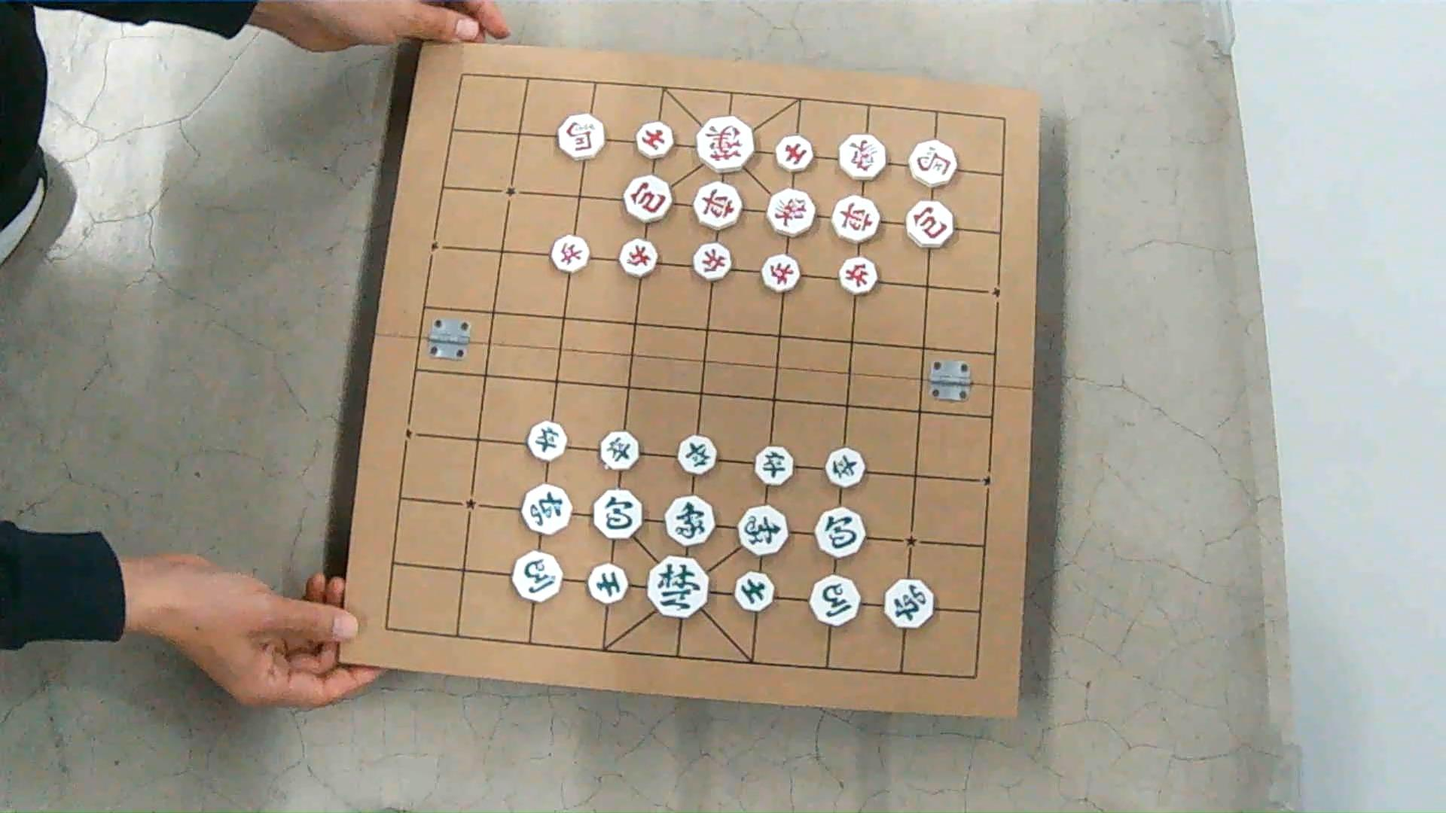cha_green: (885, 579, 935, 628), (521, 485, 570, 534)
cha_red: (694, 182, 740, 230), (832, 196, 879, 242)
jol_green: (527, 421, 566, 461), (826, 448, 865, 487), (755, 446, 793, 486), (678, 435, 716, 474), (600, 431, 638, 470)
jol_red: (762, 254, 800, 292), (551, 236, 588, 273), (694, 243, 731, 280), (840, 257, 877, 294), (620, 239, 657, 276)
ma_green: (810, 576, 859, 626), (512, 552, 561, 601)
ma_red: (909, 140, 956, 187), (557, 114, 604, 160)
po_green: (593, 489, 642, 539), (816, 508, 865, 557)
po_red: (906, 201, 953, 248), (624, 175, 670, 223)
sa_green: (588, 563, 627, 603), (735, 572, 773, 611)
sa_red: (636, 121, 673, 159), (775, 136, 813, 172)
sang_green: (738, 506, 788, 556), (665, 495, 714, 546)
sang_red: (767, 188, 815, 236), (839, 135, 885, 180)
wang_green: (647, 556, 709, 618)
wang_red: (697, 117, 754, 172)
